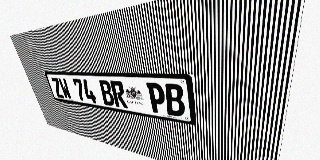4: (81, 79, 97, 103)
7: (72, 79, 87, 102)
B: (164, 83, 185, 117), (98, 80, 115, 106)
P: (146, 82, 167, 114)
R: (110, 81, 128, 108)
W: (58, 78, 72, 100)
Z: (50, 77, 65, 98)
